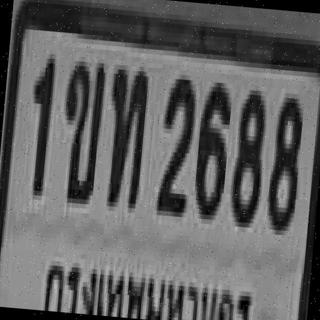A02: (56, 56, 104, 200)
A23: (100, 64, 148, 204)
N01: (24, 50, 54, 193)
N02: (155, 71, 196, 210)
N06: (191, 76, 232, 216)
N08: (228, 84, 267, 223), (264, 92, 303, 231)
P04: (41, 248, 258, 320)
